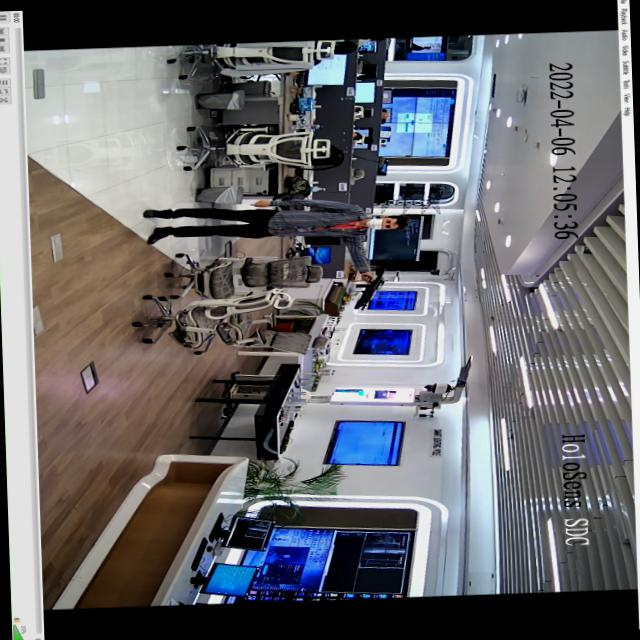long weapon: (345, 262, 393, 312)
